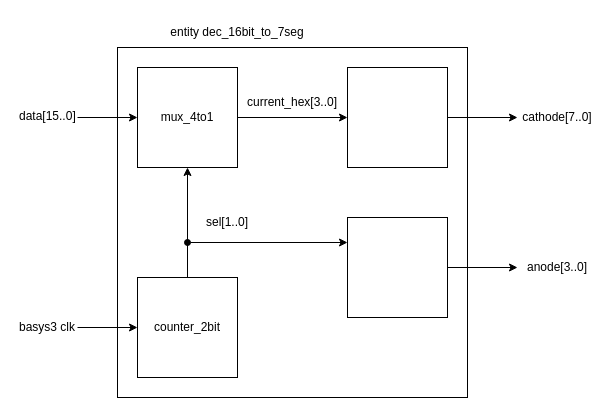
This 609x415 diagram has some shape labels left out. Each missing label, with the box of its shape:
dec_2to4: (346, 216, 448, 318)
dec_hexto7seg: (346, 66, 448, 168)
